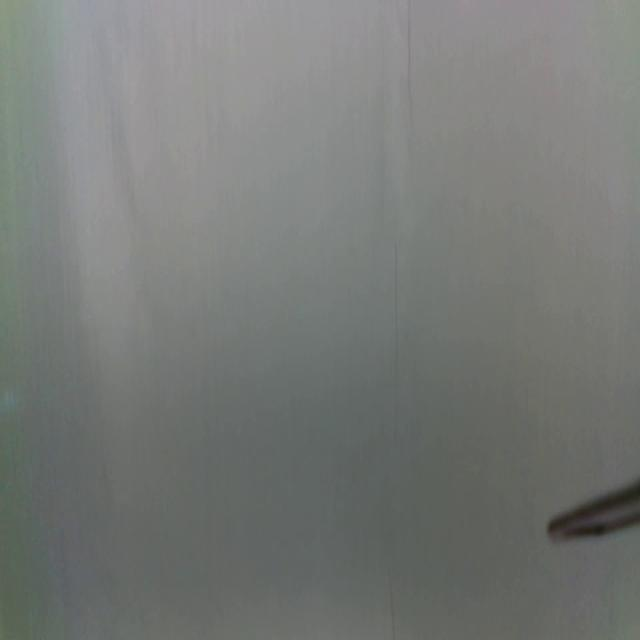crease: (391, 241, 400, 422), (405, 0, 414, 110), (386, 562, 397, 640)
